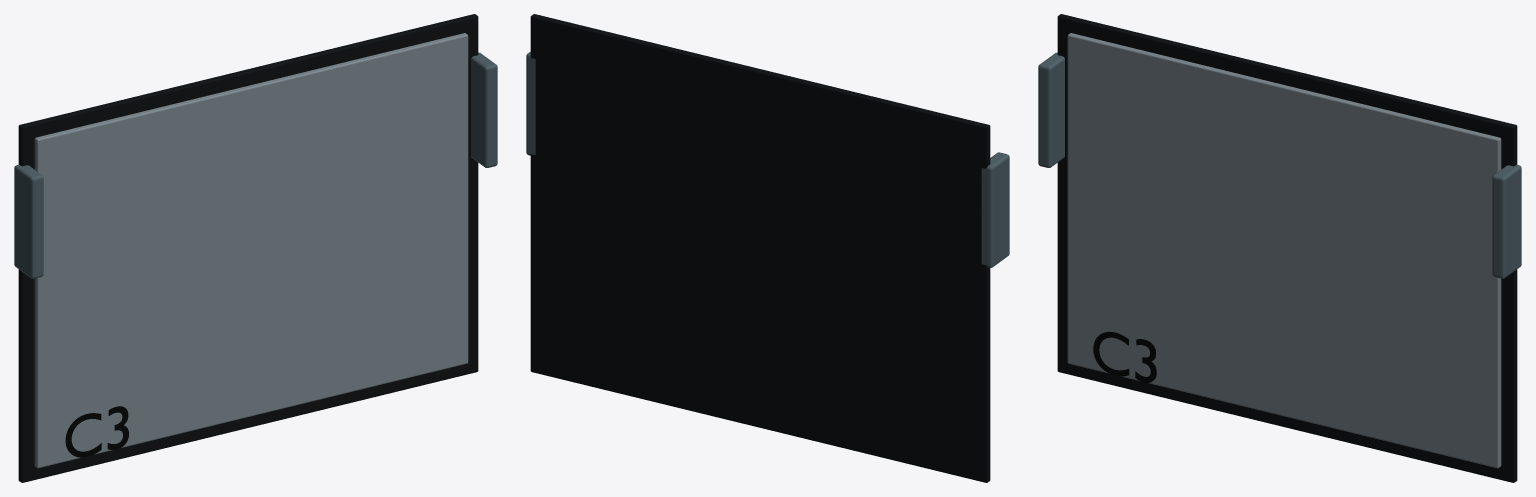
File: slot_c3.obj
3 renders of one model, left to right at view 1: azimuth 30°, elevation 25°; view 2: azimuth 150°, elevation 25°; view 3: azimuth 330°, elevation 25°, orthographic.
Visible parts, largest first — view 1: flex__slot_c3__insert, flex__slot_c3__recess, flex__slot_c3__locator, flex__slot_c3__locator.001, flex__slot_c3__id; view 2: flex__slot_c3__recess, flex__slot_c3__locator, flex__slot_c3__locator.001; view 3: flex__slot_c3__insert, flex__slot_c3__recess, flex__slot_c3__locator.001, flex__slot_c3__locator, flex__slot_c3__id.
Part boxes in pixels (x1,y1,x2,y2): flex__slot_c3__insert: [34, 33, 468, 468]; flex__slot_c3__recess: [18, 14, 478, 482]; flex__slot_c3__locator: [14, 164, 43, 278]; flex__slot_c3__locator.001: [471, 52, 497, 167]; flex__slot_c3__id: [65, 406, 128, 457]; flex__slot_c3__recess: [530, 14, 990, 482]; flex__slot_c3__locator: [981, 152, 1009, 267]; flex__slot_c3__locator.001: [526, 51, 535, 155]; flex__slot_c3__insert: [1067, 33, 1501, 468]; flex__slot_c3__recess: [1057, 14, 1517, 482]; flex__slot_c3__locator.001: [1492, 164, 1521, 278]; flex__slot_c3__locator: [1038, 52, 1064, 167]; flex__slot_c3__id: [1093, 331, 1156, 382].
Bounding box in the file's own units: 0.144 × 0.105 × 0.01.
